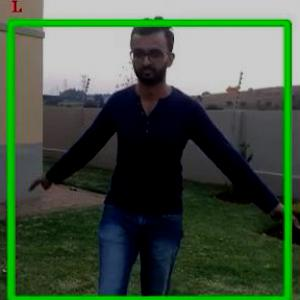land: (10, 29, 299, 299)
